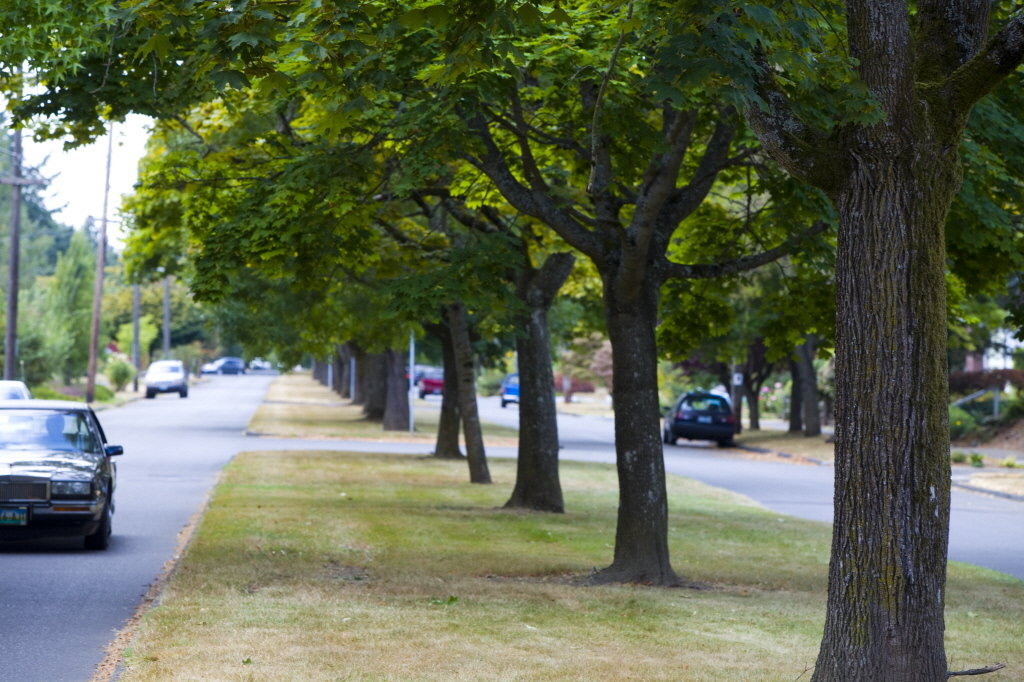tree: (382, 1, 810, 586)
